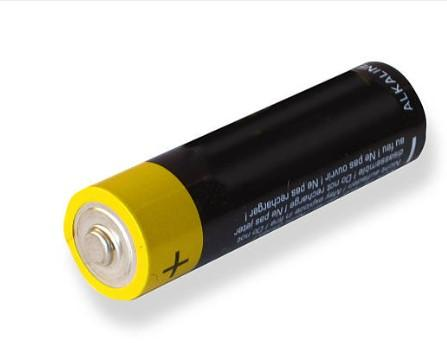Battery: (64, 62, 427, 300)
